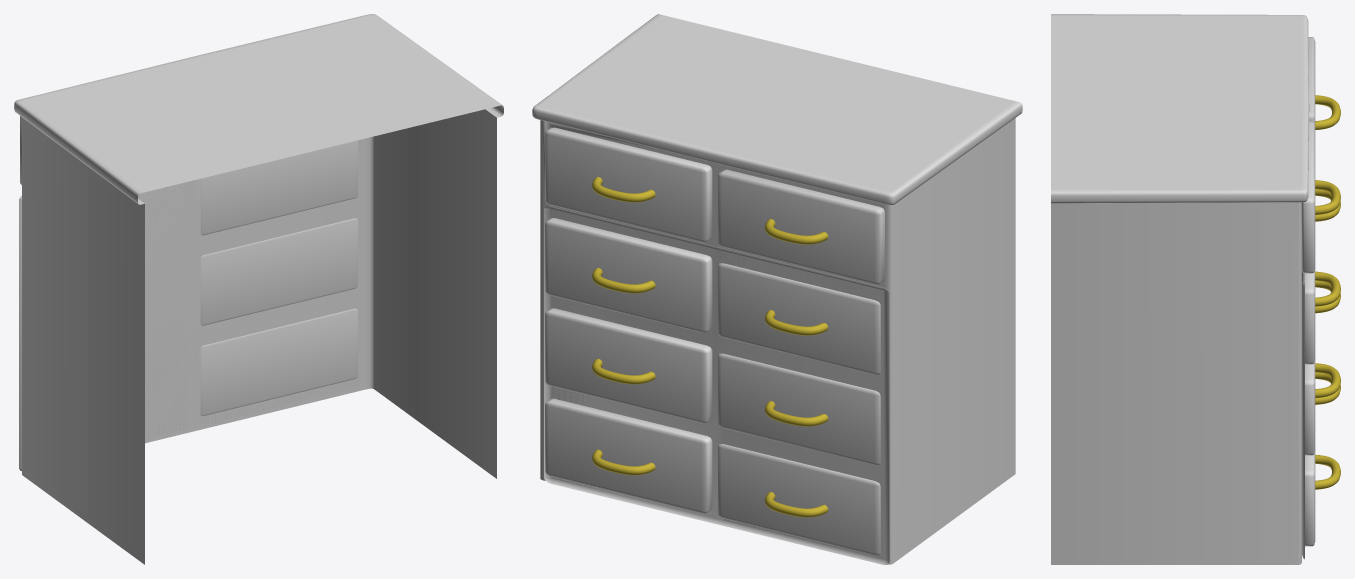
The model's file is Shelf_3.fbx.
3 views of the same model, side by side, from view 1: azimuth 30°, elevation 25°; view 2: azimuth 150°, elevation 25°; view 3: azimuth 270°, elevation 25° (orthographic).
Visible parts, largest first — view 1: Cube.009, Cube.010; view 2: Cube.009, Cube.010, NurbsPath.012, NurbsPath.011; view 3: Cube.009, Cube.010, NurbsPath.012, NurbsPath.011.
Boxes of the visible parts, x1,y1,x2,y2 form: Cube.009: (14, 14, 503, 564); Cube.010: (200, 140, 357, 415); Cube.009: (532, 14, 1022, 564); Cube.010: (545, 127, 880, 555); NurbsPath.012: (592, 177, 655, 475); NurbsPath.011: (765, 219, 828, 517); Cube.009: (1051, 14, 1312, 564); Cube.010: (1302, 37, 1315, 546); NurbsPath.012: (1315, 180, 1340, 489); NurbsPath.011: (1315, 95, 1340, 404).
Bounding box in the file's own units: 84.77 × 82.51 × 57.74.
